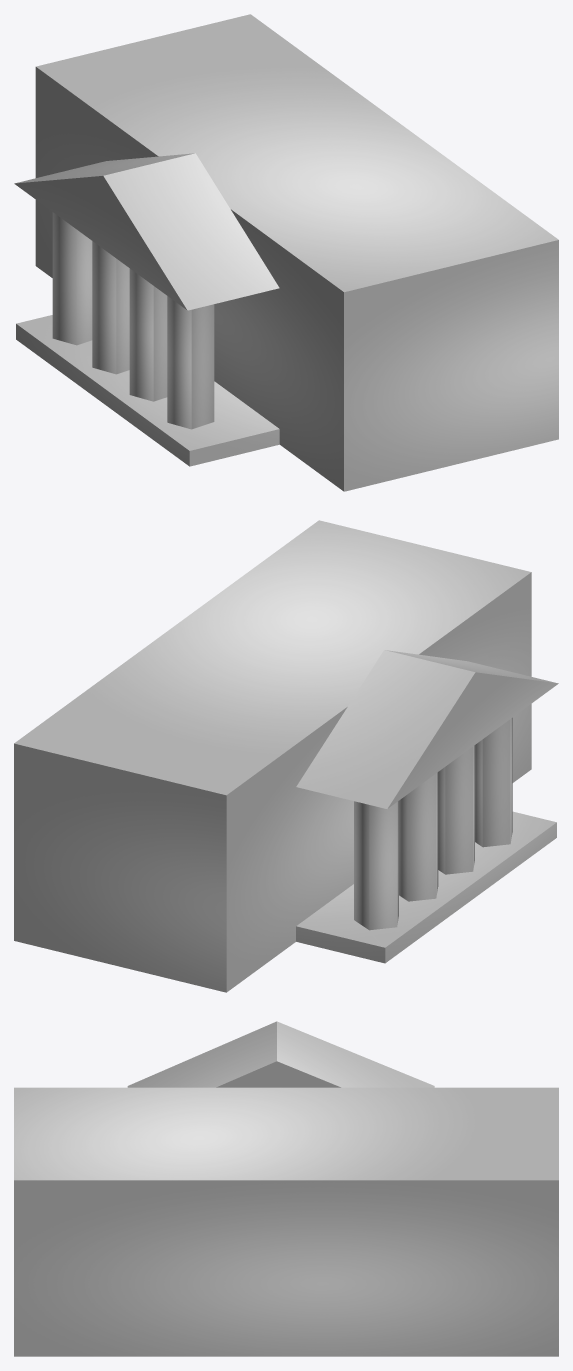
The model's file is The_House_That_Is_White.fbx.
3 renders of one model, top to bottom at view 1: azimuth 30°, elevation 25°; view 2: azimuth 150°, elevation 25°; view 3: azimuth 270°, elevation 25°, orthographic. The views are drawn at different scales.
Parts seen in each view (by area): view 1: The_House_That_Is_White; view 2: The_House_That_Is_White; view 3: The_House_That_Is_White.
Part boxes in pixels (bbox=[...]): The_House_That_Is_White: bbox=[14, 14, 558, 491]; The_House_That_Is_White: bbox=[14, 520, 558, 992]; The_House_That_Is_White: bbox=[14, 1021, 558, 1356].
Bounding box in the file's own units: 49.93 × 35.69 × 86.87.
